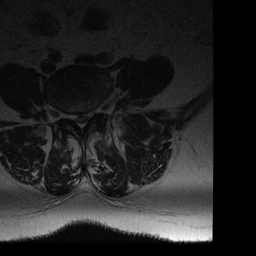CCS_stenosis: (77, 108, 83, 136)
LFS_severe_stenosis: (90, 99, 98, 121)
LLS_stenosis: (83, 107, 90, 129)
RFS_stenosis: (63, 104, 71, 127)
RLS_stenosis: (71, 107, 77, 130)
